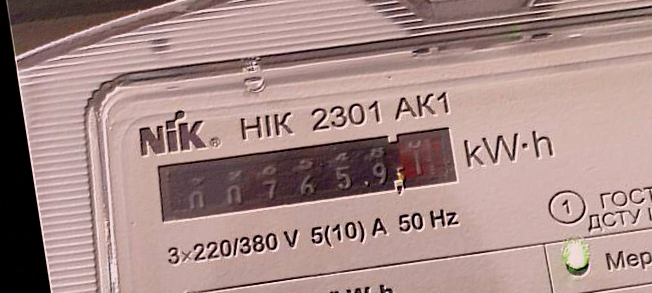0: (223, 181, 246, 209), (186, 186, 208, 214)
1: (409, 146, 428, 180)
5: (331, 162, 357, 192)
6: (296, 171, 318, 198)
7: (259, 176, 283, 204)
9: (369, 159, 391, 188)
screen: (143, 107, 471, 245)
